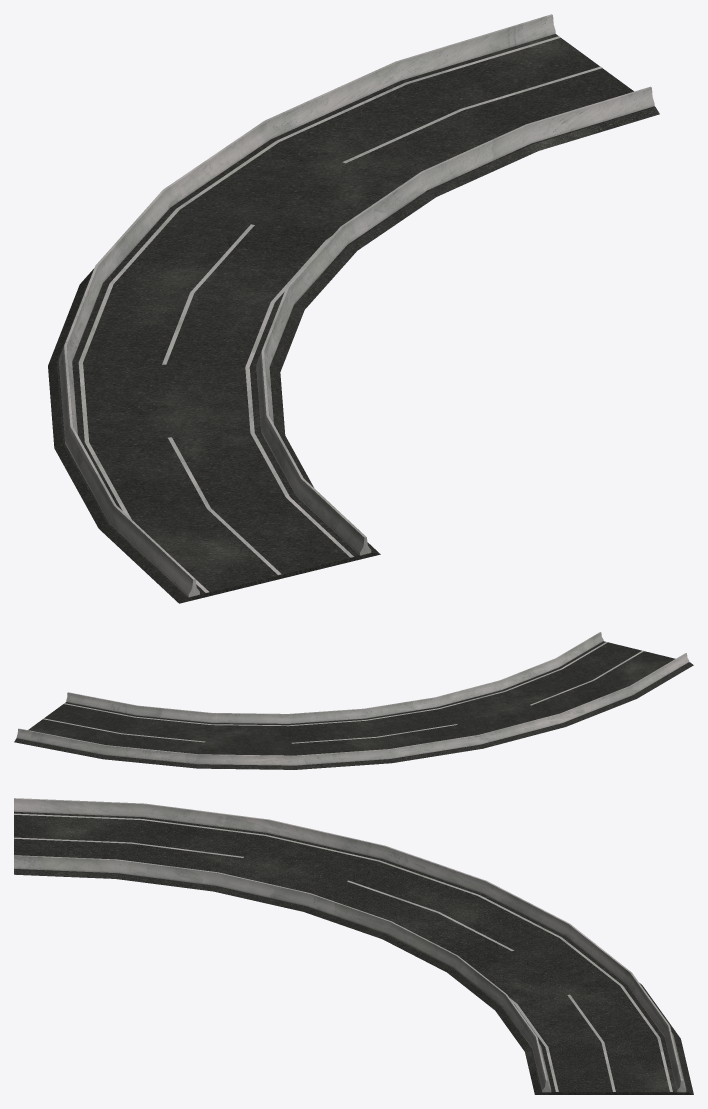
The model's file is Road0_TurnLong.fbx.
3 renders of one model, top to bottom at view 1: azimuth 30°, elevation 25°; view 2: azimuth 150°, elevation 25°; view 3: azimuth 270°, elevation 25°, orthographic. The views are drawn at different scales.
Parts seen in each view (by area): view 1: Road; view 2: Road; view 3: Road.
Boxes of the visible parts, x1=… form: Road: x1=48, y1=14, x2=659, y2=603; Road: x1=14, y1=632, x2=693, y2=769; Road: x1=14, y1=798, x2=693, y2=1094.
Bounding box in the file's own units: 45.3 × 1.04 × 45.3.
